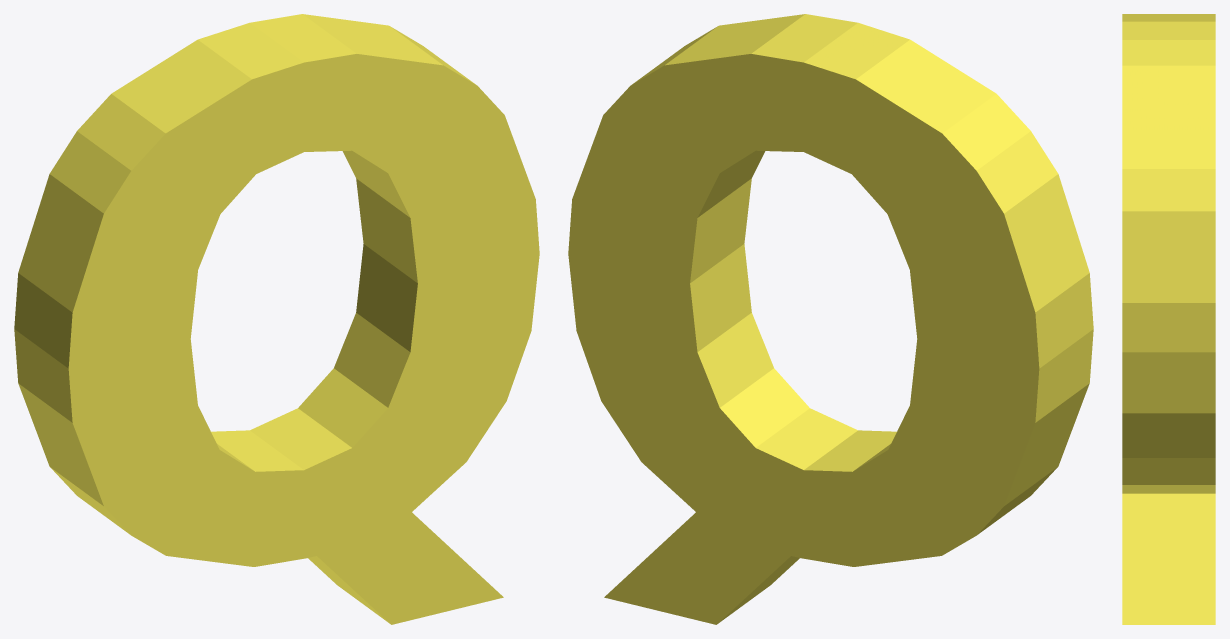
The model's file is huruf_besar_q.glb.
3 renders of one model, left to right at view 1: azimuth 30°, elevation 25°; view 2: azimuth 150°, elevation 25°; view 3: azimuth 270°, elevation 25°, orthographic. The views are drawn at different scales.
Visible parts, largest first — view 1: geometry_0; view 2: geometry_0; view 3: geometry_0.
Boxes of the visible parts, x1,y1,x2,y2 form: geometry_0: (14,14,539,624); geometry_0: (568,14,1093,624); geometry_0: (1122,14,1215,624).
Bounding box in the file's own units: 7.5 × 8.88 × 1.5.
